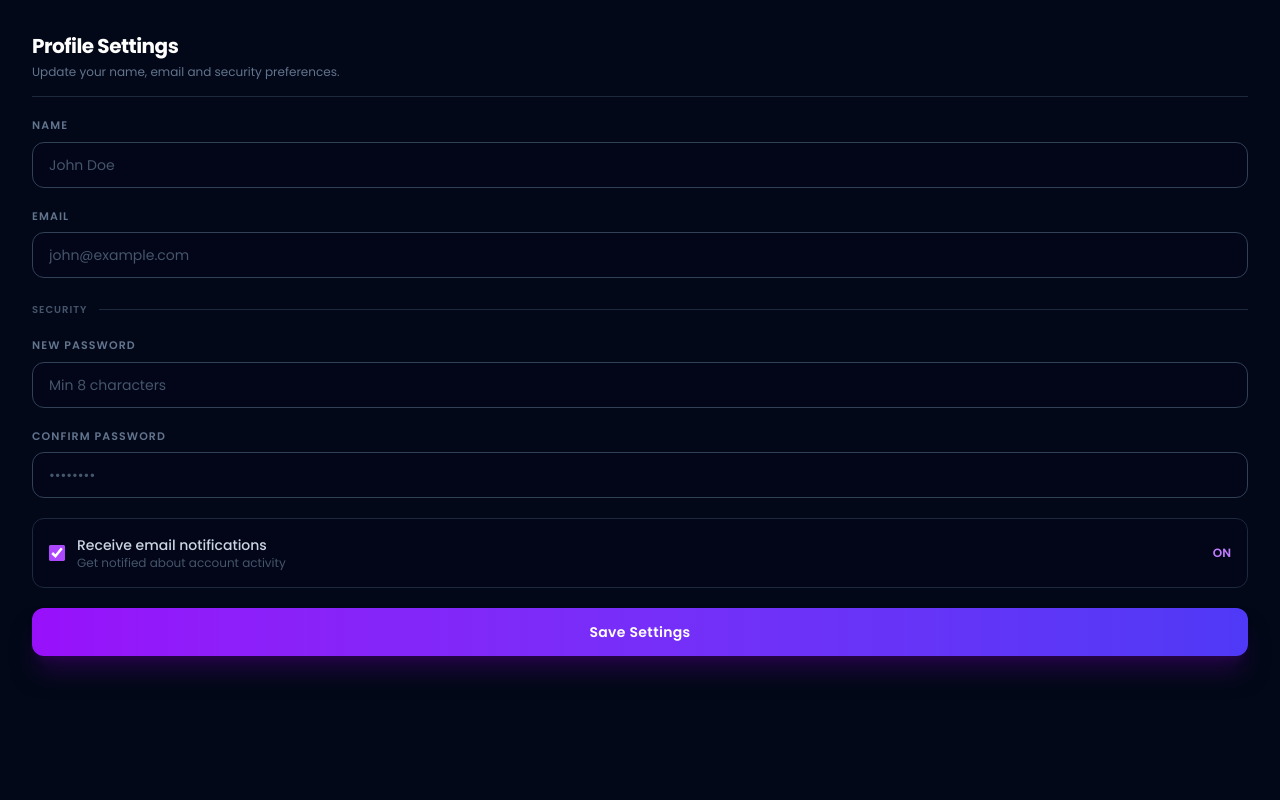
Scenario: SettingsForm › shows validation errors on empty submit
Click the button "Save Settings".
click(640, 632)  # box 32,608 -> 1248,656
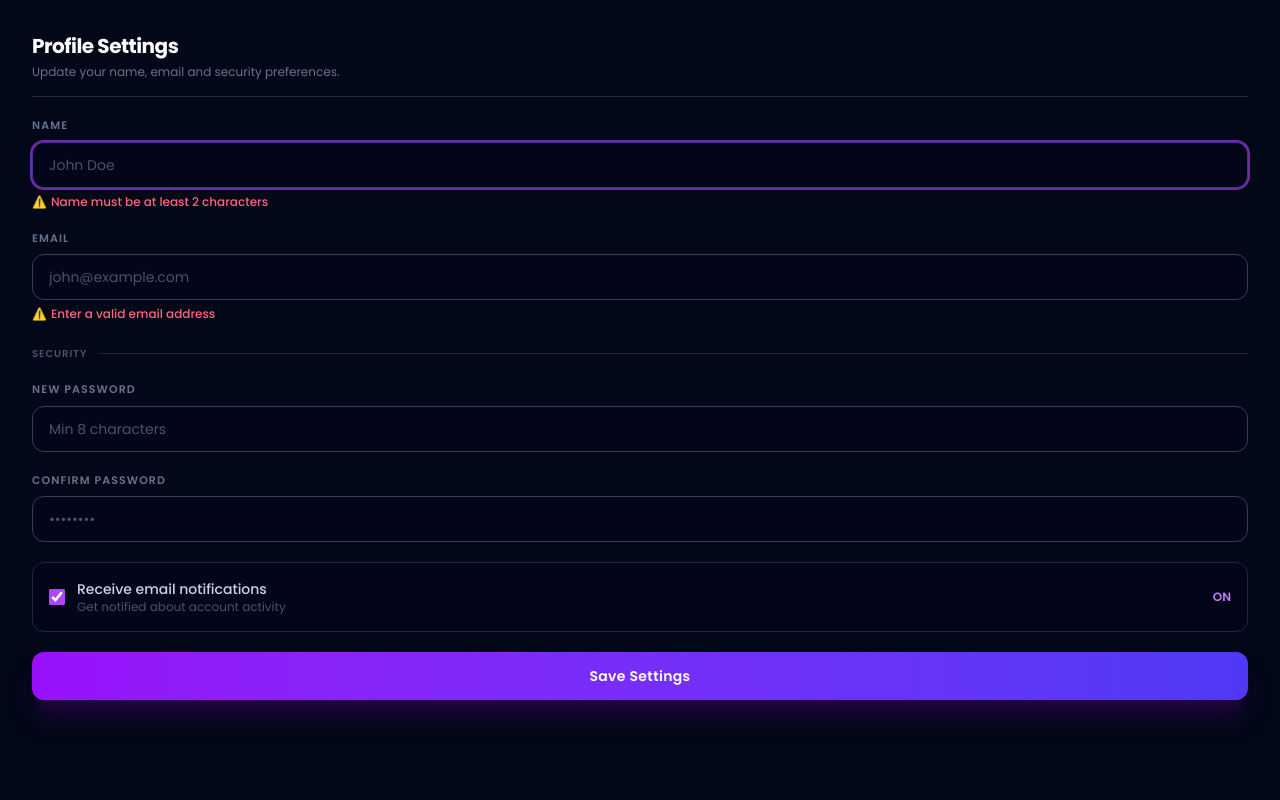
Expected: the text "⚠️ Name must be at least 2 characters" is shown, 32,192 -> 268,210
Expected: the text "⚠️ Enter a valid email address" is shown, 32,305 -> 215,322
